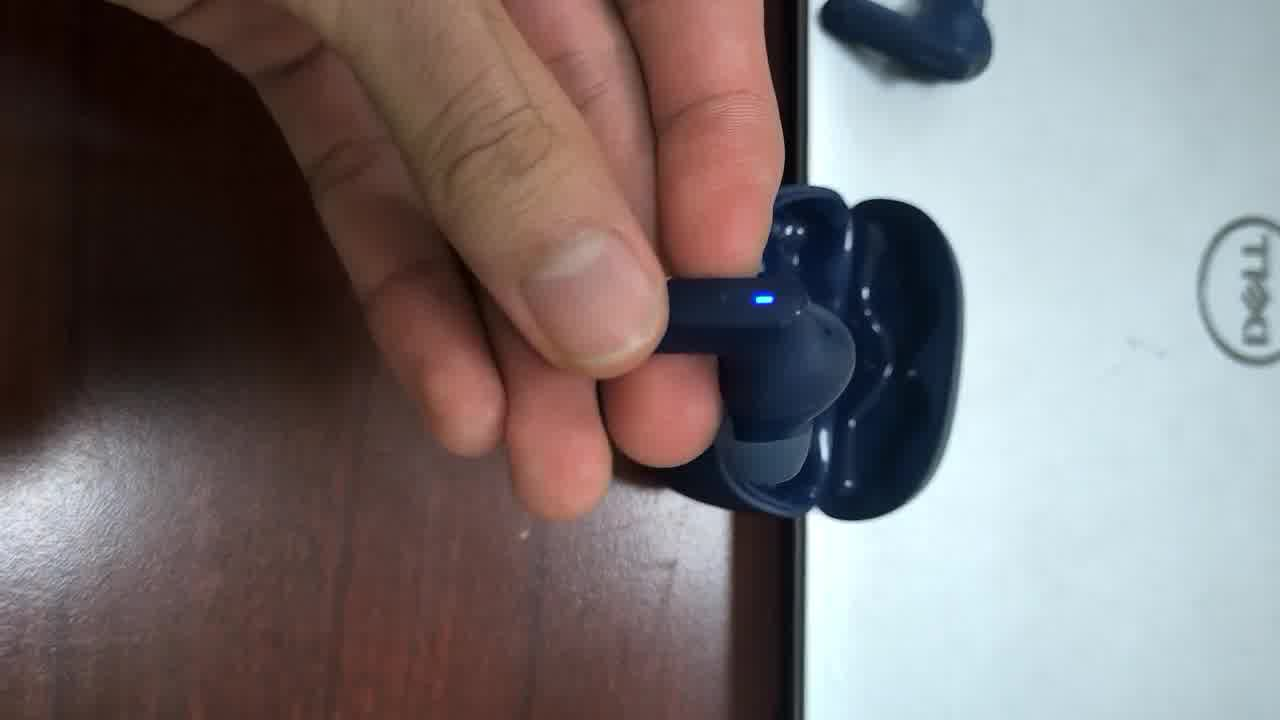Earbud: (656, 274, 855, 483), (819, 0, 992, 79)
